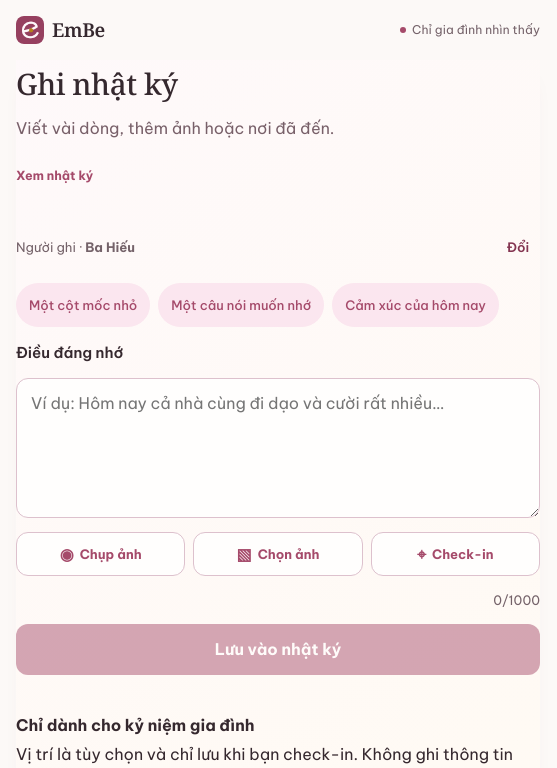
Test: one-handed family journal › keeps a known author compact and allows changing without losing the note
Type "Bản nháp đang viết" into the text box labelled "Điều đáng nhớ".
click(278, 448); type("Bản nháp đang viết")  # box [16,378,540,518]
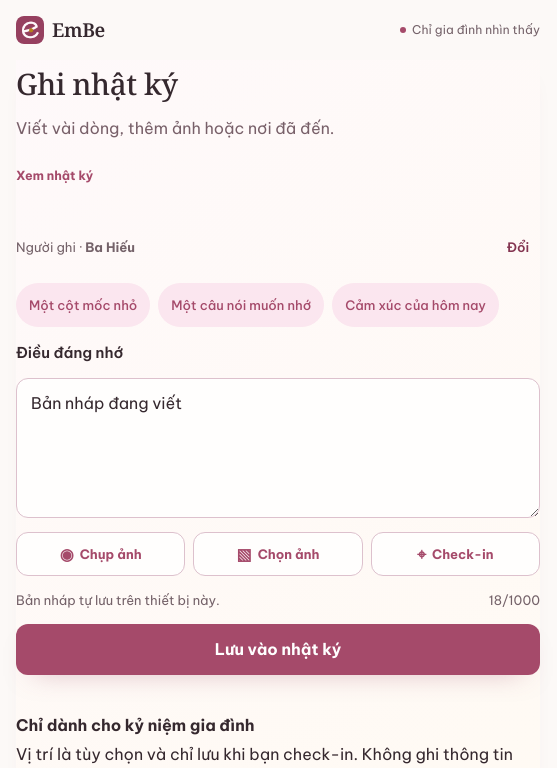
Click the button with aria-label "Đổi người ghi".
click(518, 247)  # box [496,225,540,269]
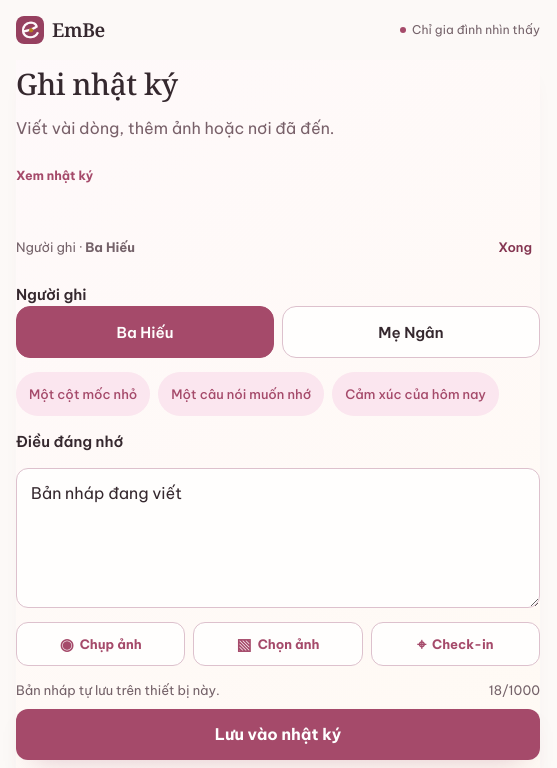
Check: the radio button labelled "Ba Hiếu" is checked, box [16,306,274,358]
Click the radio button labelled "Mẹ Ngân".
click(411, 332)  # box [282,306,540,358]
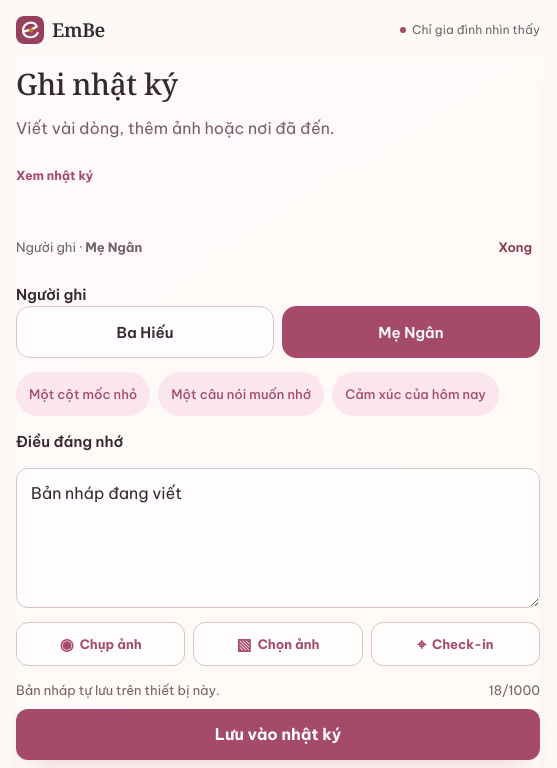
Click the button with aria-label "Xong người ghi".
click(515, 247)  # box [490,225,540,269]
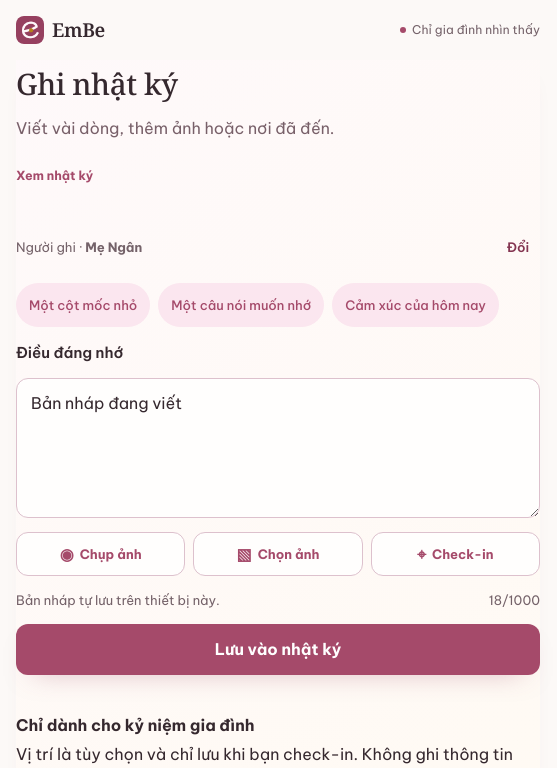
Check: the radio button is gone
